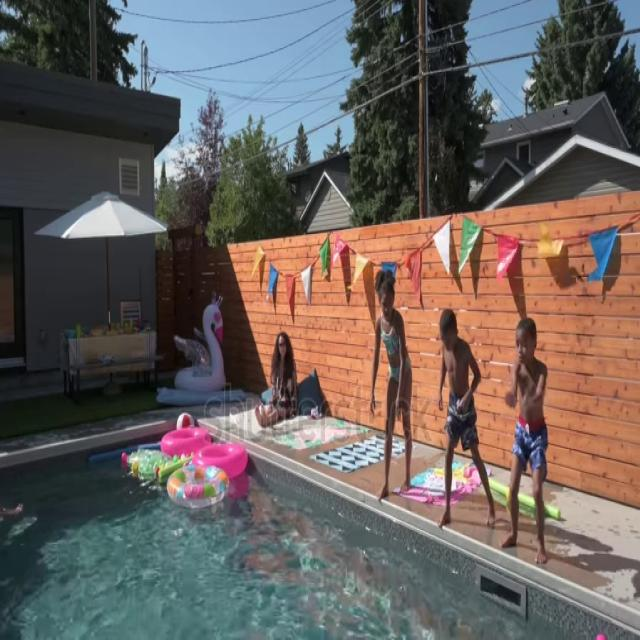adult: (256, 332, 296, 428)
child: (436, 306, 496, 528), (499, 318, 548, 568), (371, 270, 413, 500)
